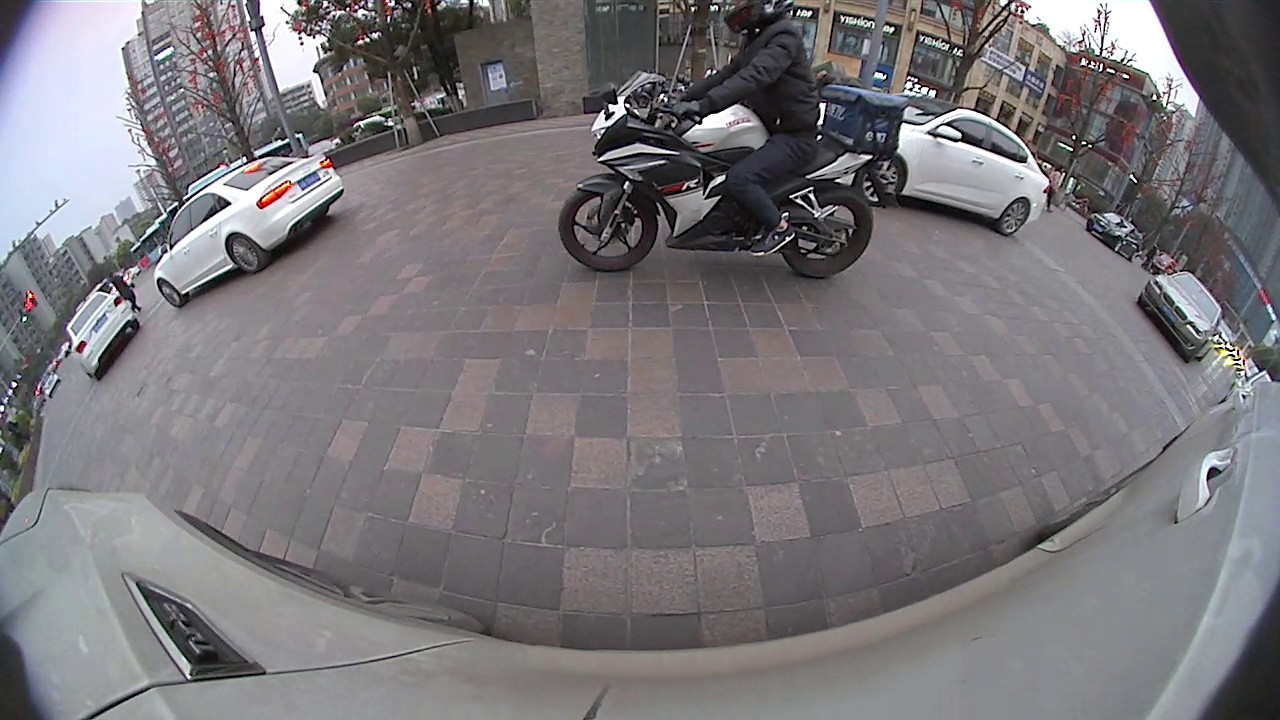car: (837, 92, 1054, 240), (151, 151, 347, 310), (1138, 270, 1226, 363), (64, 289, 144, 384), (1086, 209, 1145, 263)
front: (554, 173, 661, 275), (853, 149, 908, 209), (153, 278, 188, 309)
rear: (773, 183, 878, 282), (222, 231, 269, 275), (994, 197, 1033, 239)
rider: (557, 1, 909, 282)
